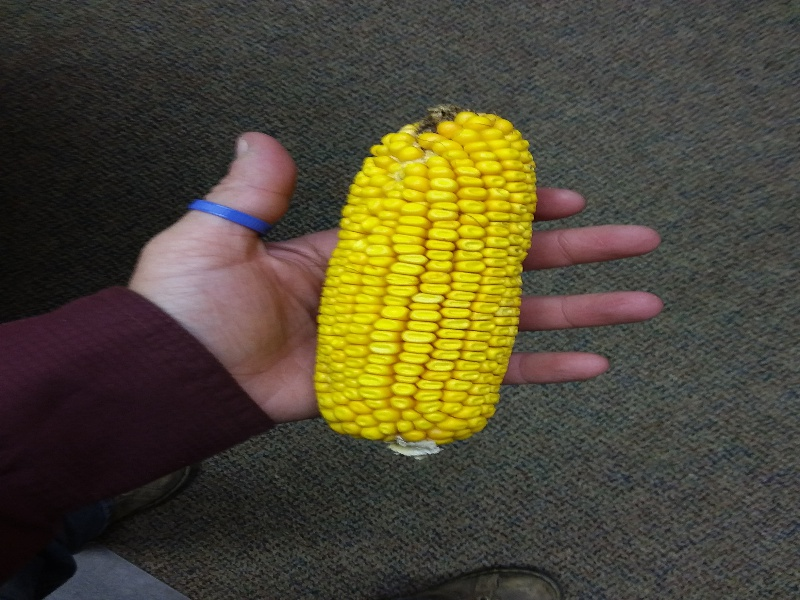band: (189, 197, 274, 240)
ear: (309, 98, 541, 462)
